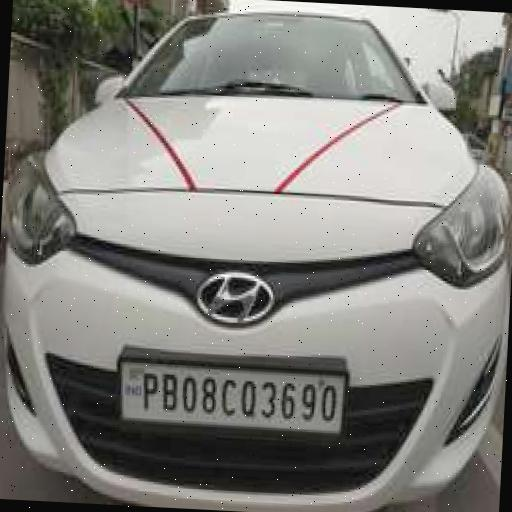license_plate`: (117, 358, 342, 432)
